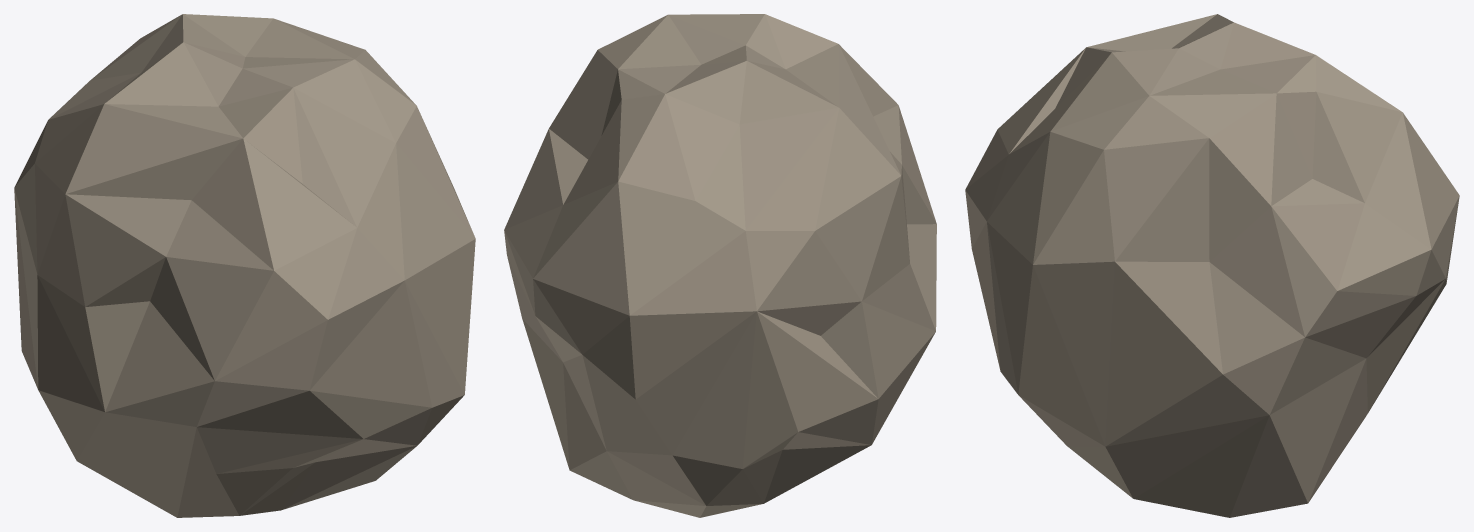
File: terrain_rock0.glb
3 renders of one model, left to right at view 1: azimuth 30°, elevation 25°; view 2: azimuth 150°, elevation 25°; view 3: azimuth 270°, elevation 25°, orthographic. The views are drawn at different scales.
Visible parts, largest first — view 1: Rock0; view 2: Rock0; view 3: Rock0.
Part boxes in pixels (bbox=[...]): Rock0: bbox=[14, 14, 475, 517]; Rock0: bbox=[504, 14, 936, 517]; Rock0: bbox=[965, 14, 1459, 517].
Size of the model in its own units: 1.82 by 2.14 by 2.22.
